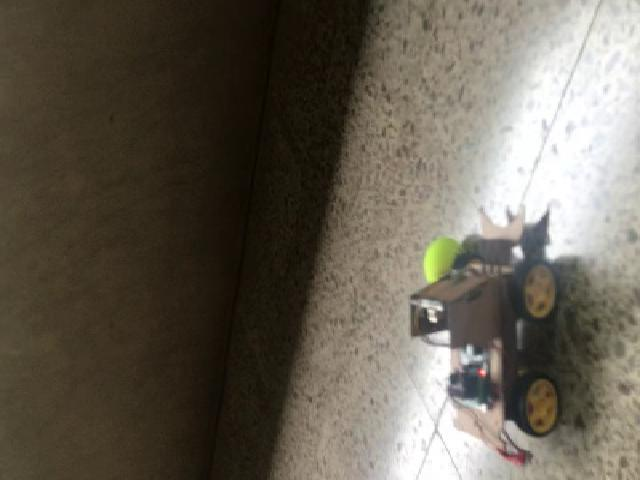Ball: (422, 239, 461, 278)
Robot: (408, 204, 563, 454)
